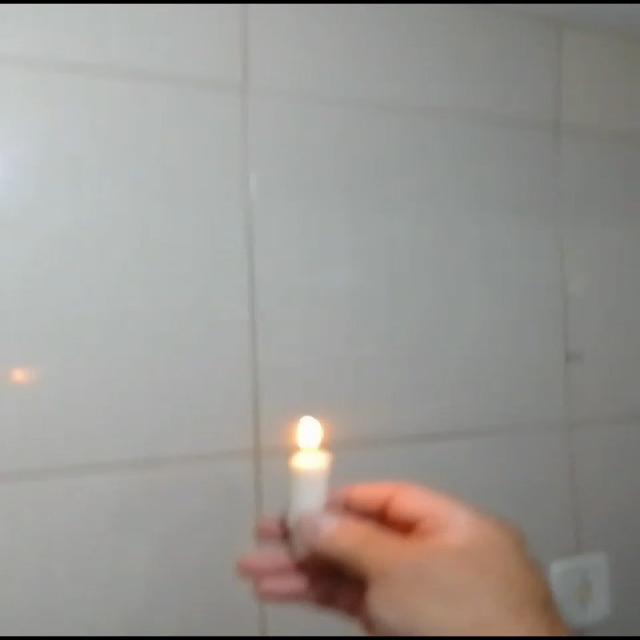fogo-ypXI: (287, 412, 327, 453)
